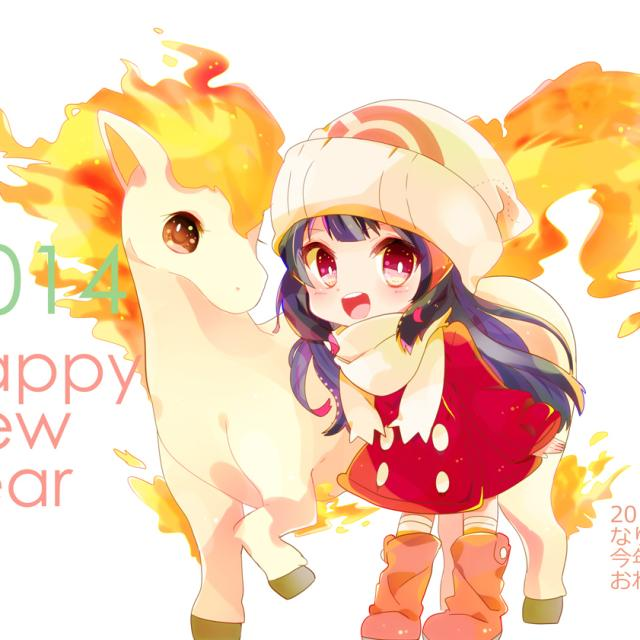Ponyta: (74, 78, 313, 634)
